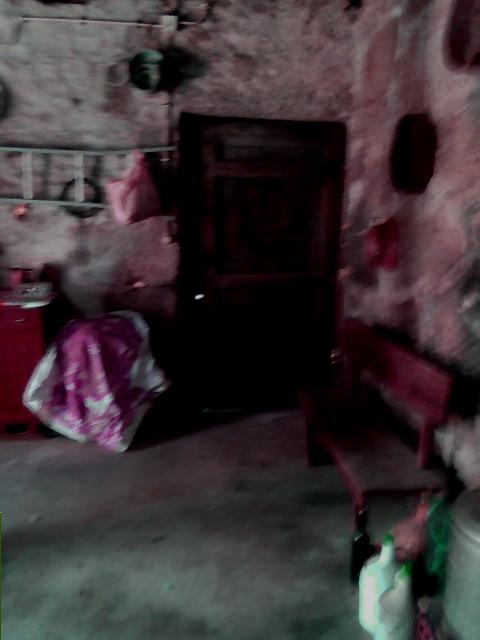closed_door: (177, 109, 344, 403)
